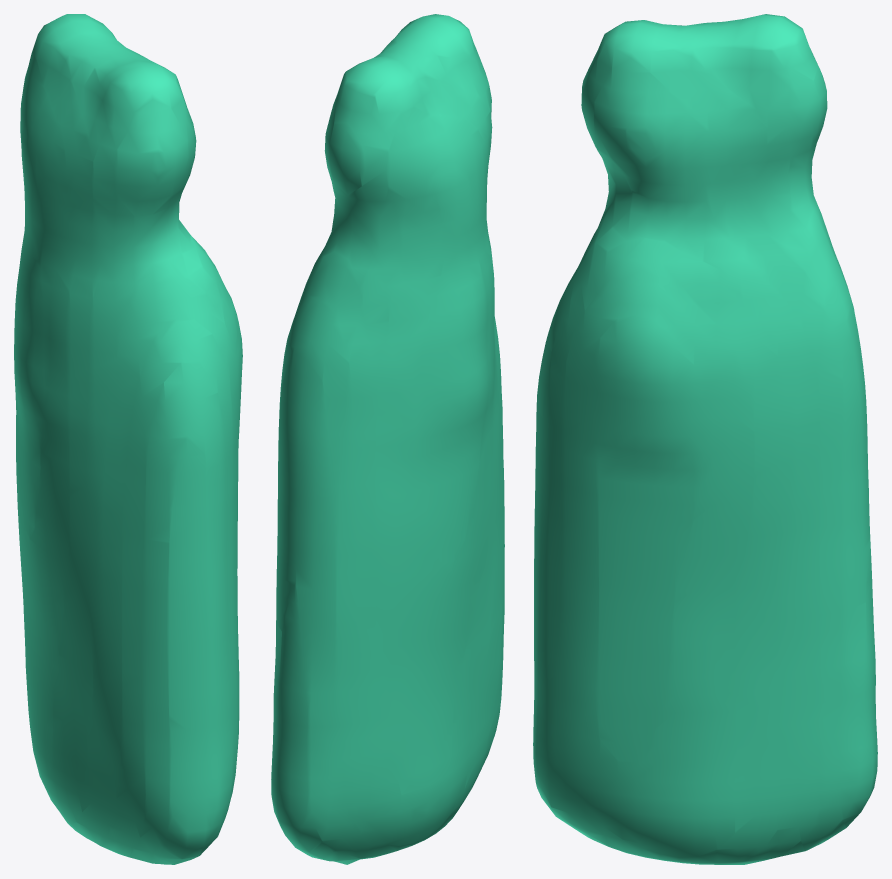
The picture shows the model from 3 angles, left to right: view 1: azimuth 30°, elevation 25°; view 2: azimuth 150°, elevation 25°; view 3: azimuth 270°, elevation 25°; orthographic projection. The views are drawn at different scales.
Parts seen in each view (by area): view 1: Liquid_Domain; view 2: Liquid_Domain; view 3: Liquid_Domain.
Boxes of the visible parts, x1,y1,x2,y2 form: Liquid_Domain: (14,14,242,864); Liquid_Domain: (271,14,504,864); Liquid_Domain: (533,14,877,864).
Size of the model in its own units: 1.53 by 6.47 by 2.47.
